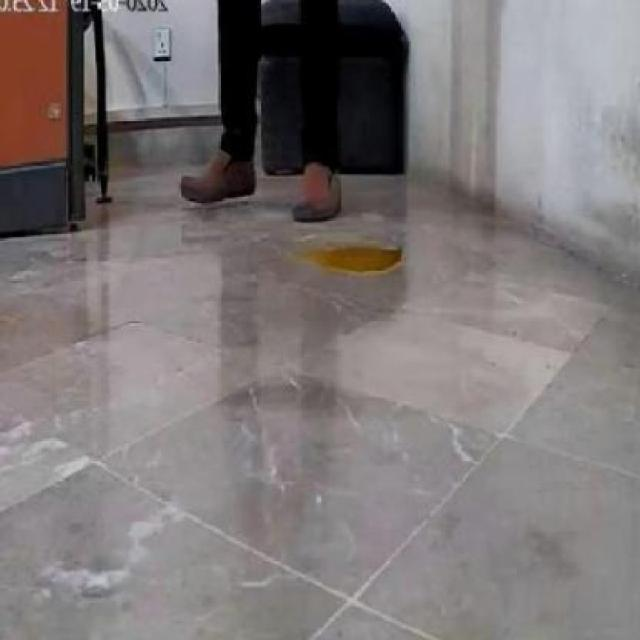spillage: (294, 238, 404, 276)
